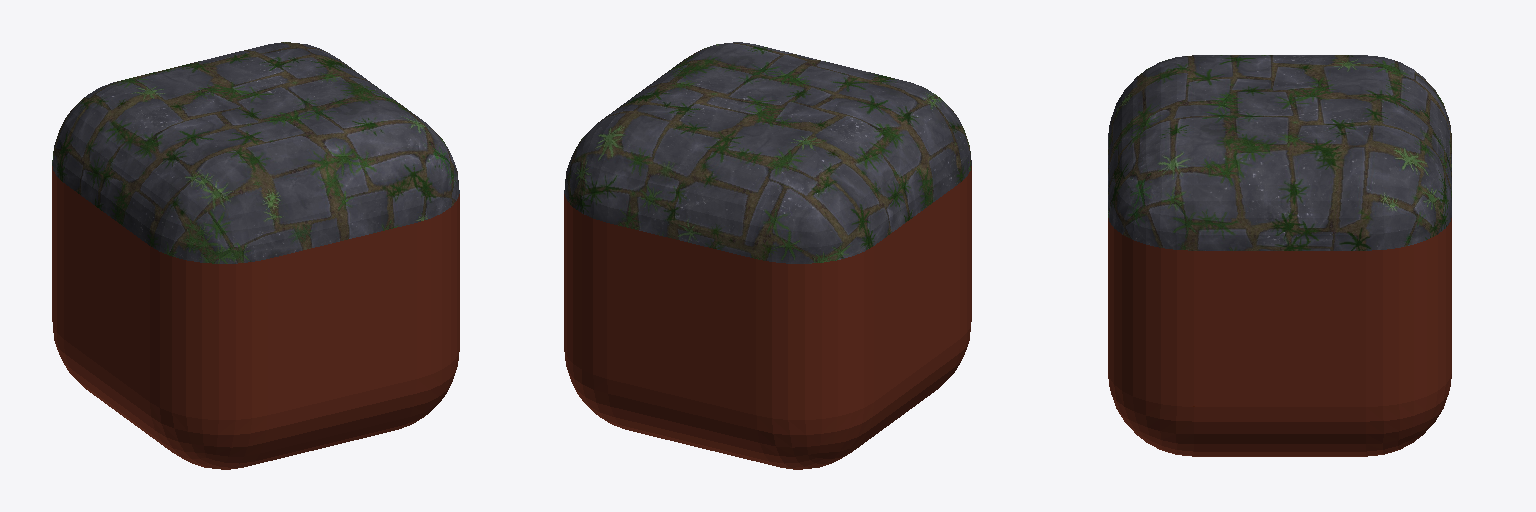
3 renders of one model, left to right at view 1: azimuth 30°, elevation 25°; view 2: azimuth 150°, elevation 25°; view 3: azimuth 270°, elevation 25°, orthographic.
Parts seen in each view (by area): view 1: Cube; view 2: Cube; view 3: Cube.
Part boxes in pixels (left/top/right/bottom): Cube: left=52, top=42, right=459, bottom=469; Cube: left=564, top=42, right=971, bottom=469; Cube: left=1108, top=55, right=1451, bottom=456.
Size of the model in its own units: 200 by 200 by 200.
Materials: 1 (1 with a texture image).